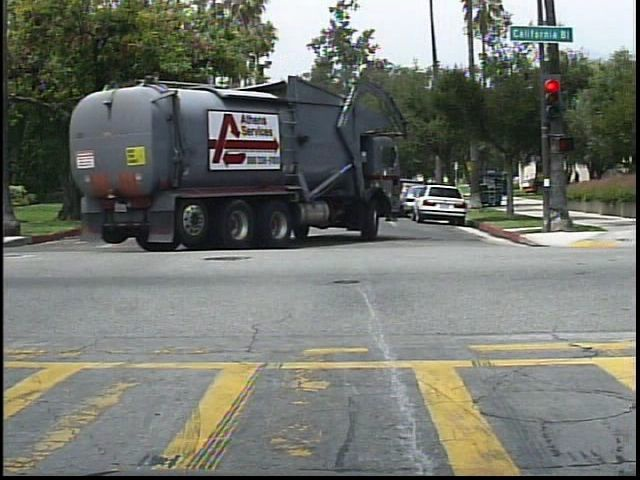person: (568, 165, 587, 195)
